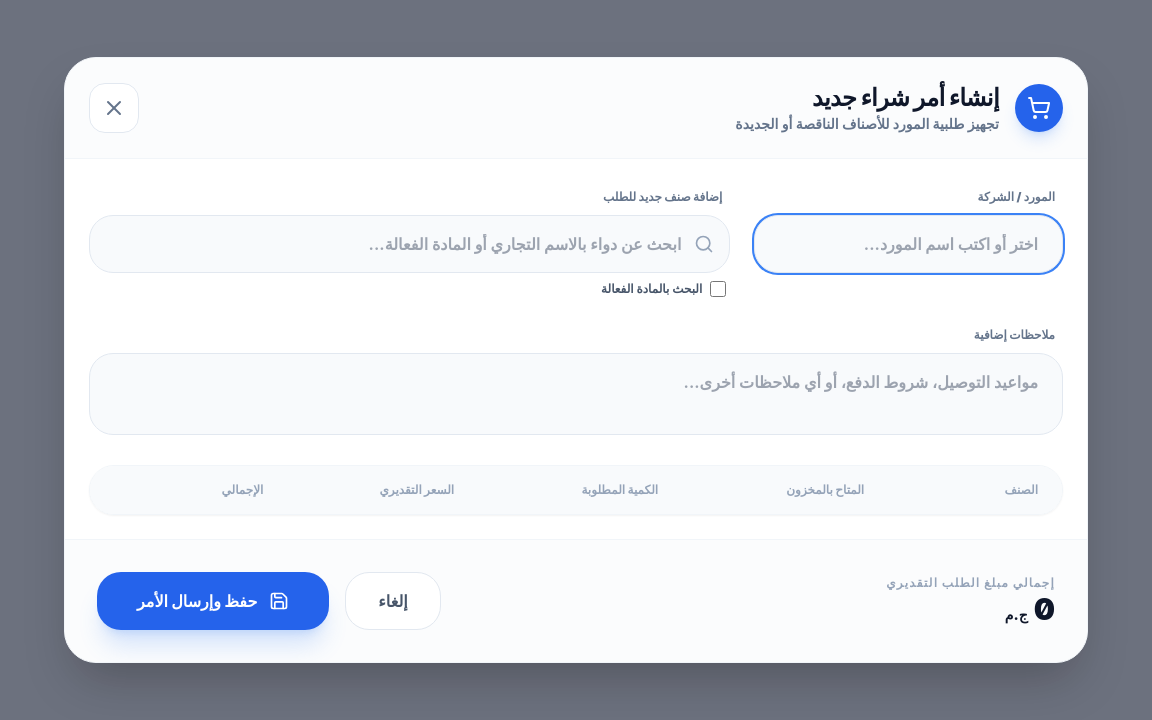
Test case: purchase-order modal async recovery › recovers from a rejected drug search and allows a later retry
Step 1. Type "pan" into the field with placeholder "ابحث عن دواء بالاسم التجاري أو المادة الفعالة..." → (410, 244), box [89,215,730,273]
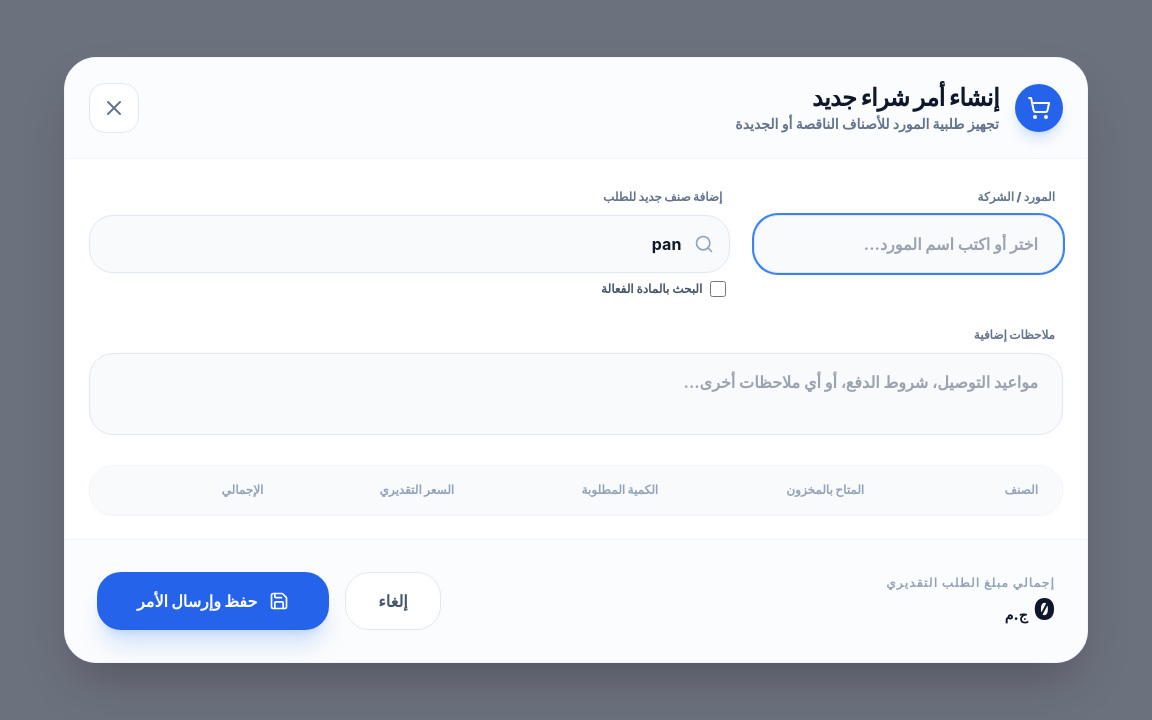
Step 2. Replace the text in the field with placeholder "ابحث عن دواء بالاسم التجاري أو المادة الفعالة..." with "pana" → (410, 244), box [89,215,730,273]
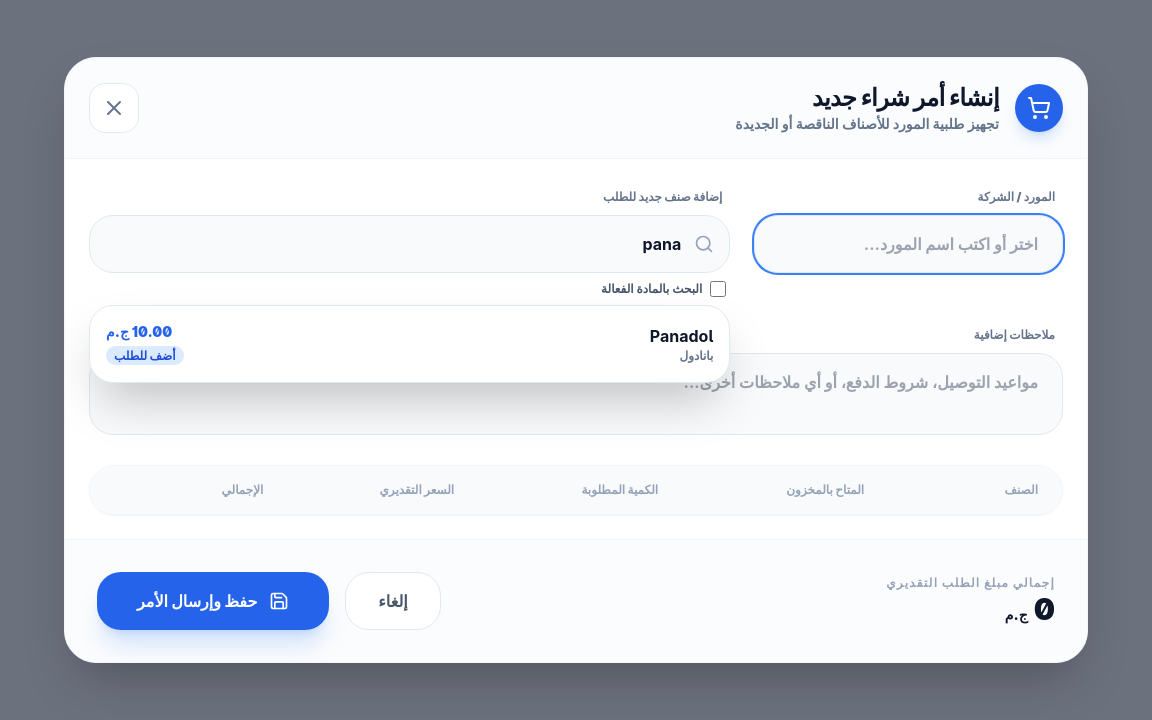
Now the text "Panadol" is shown, box [650,324,713,348]
